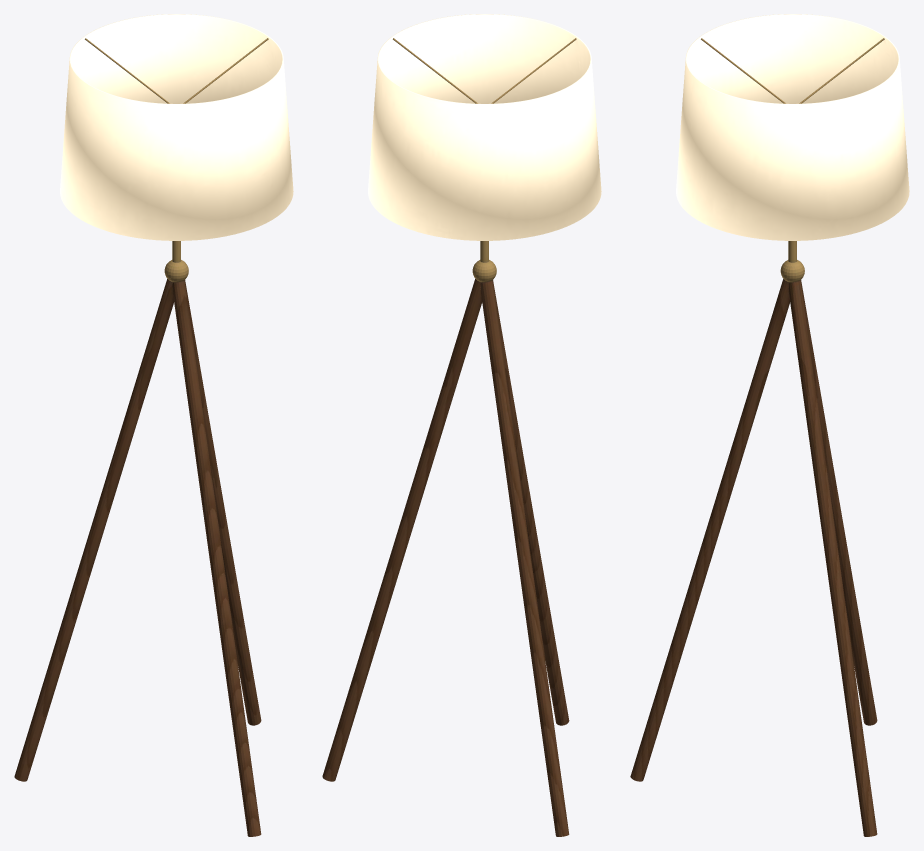
The model's file is tripod-floor.glb.
3 renders of one model, left to right at view 1: azimuth 30°, elevation 25°; view 2: azimuth 150°, elevation 25°; view 3: azimuth 270°, elevation 25°, orthographic.
Visible parts, largest first — view 1: fabric_secondary_shade, wood_v, brass; view 2: fabric_secondary_shade, wood_v, brass; view 3: fabric_secondary_shade, wood_v, brass.
Boxes of the visible parts, bbox=[...] form: fabric_secondary_shade: bbox=[60, 14, 293, 240]; wood_v: bbox=[14, 279, 261, 836]; brass: bbox=[85, 38, 268, 282]; fabric_secondary_shade: bbox=[368, 14, 601, 240]; wood_v: bbox=[322, 279, 569, 836]; brass: bbox=[393, 38, 576, 282]; fabric_secondary_shade: bbox=[676, 14, 909, 240]; wood_v: bbox=[630, 279, 877, 836]; brass: bbox=[701, 38, 884, 282].
Size of the model in its own units: 0.5815 by 1.63 by 0.5735.
Materials: 4 (3 with a texture image).
